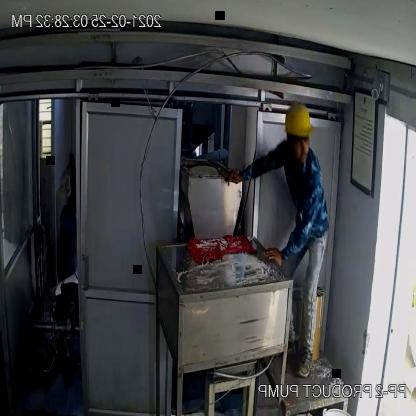helmet: (278, 90, 315, 150)
